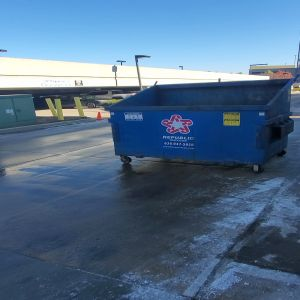Dumpster: (105, 77, 298, 176)
